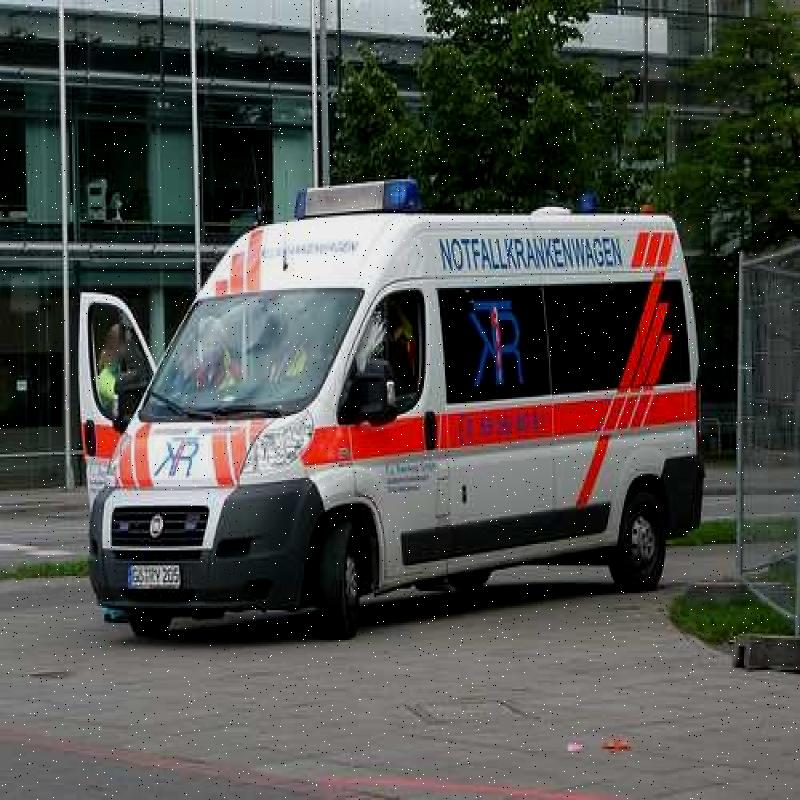AmbulanceSiren: (280, 171, 434, 232)
